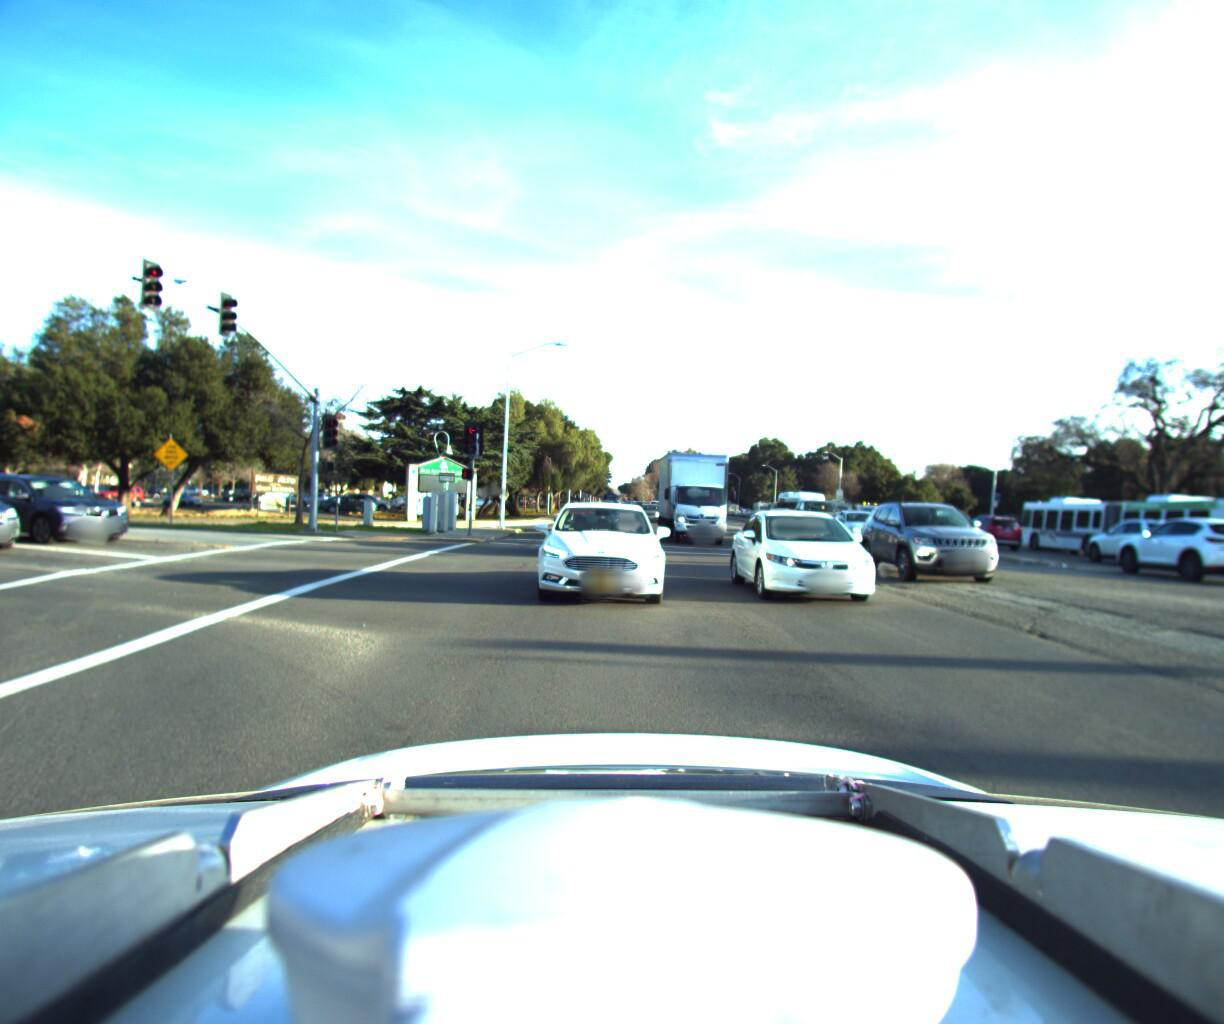bus: (1016, 488, 1168, 556), (1098, 486, 1224, 563), (771, 487, 824, 527)
car: (731, 501, 912, 625), (867, 495, 1043, 595), (533, 495, 666, 624), (1089, 501, 1224, 577), (846, 488, 947, 550), (1066, 507, 1183, 561), (812, 490, 894, 540), (777, 485, 849, 534), (947, 509, 1021, 547), (632, 490, 664, 517)
truck: (653, 436, 740, 546), (847, 495, 905, 528)
